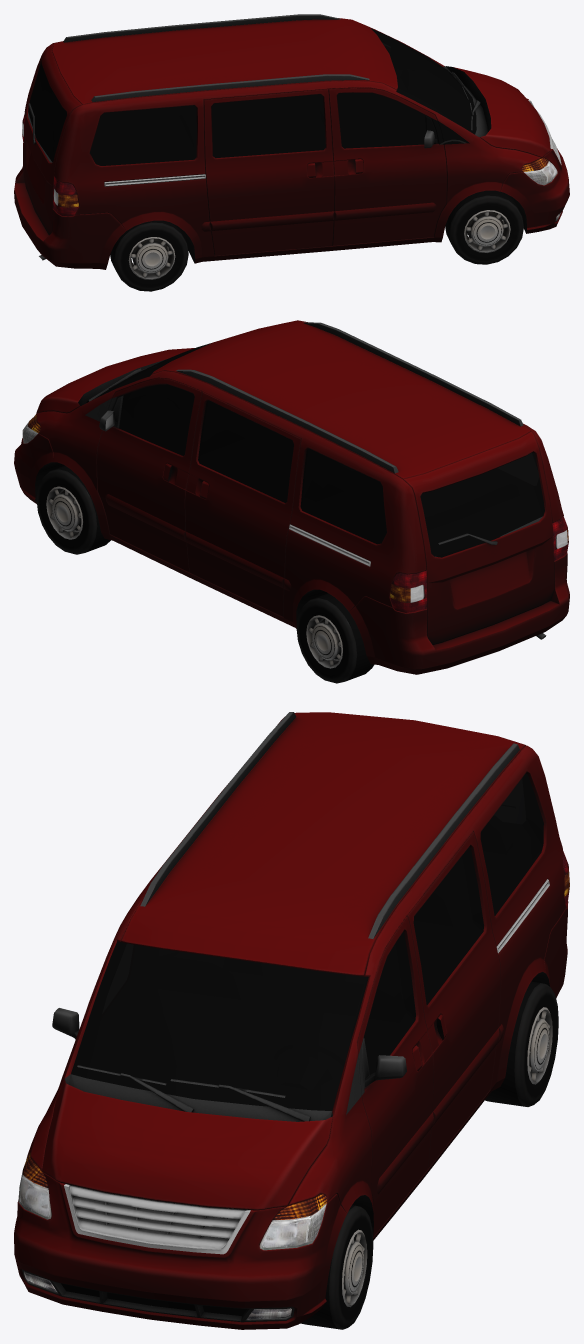
Rendered from cargo.glb.
The picture shows the model from 3 angles, top to bottom: view 1: azimuth 30°, elevation 25°; view 2: azimuth 150°, elevation 25°; view 3: azimuth 270°, elevation 25°; orthographic projection. The views are drawn at different scales.
Parts seen in each view (by area): view 1: minivan body, Wheel_D002, Wheel_D003; view 2: minivan body, Wheel_D001, Wheel_D; view 3: minivan body, Wheel_D001, Wheel_D.
Part boxes in pixels (x1,y1,x2,y2): minivan body: (14,14,569,269); Wheel_D002: (445,190,523,264); Wheel_D003: (110,220,188,291); minivan body: (14,320,569,674); Wheel_D001: (296,593,374,683); Wheel_D: (36,465,110,554); minivan body: (14,712,569,1329); Wheel_D001: (485,981,558,1106); Wheel_D: (300,1205,373,1329).
Bounding box in the file's own units: 4.62 × 1.79 × 2.81.
Materials: 4 (3 with a texture image).
